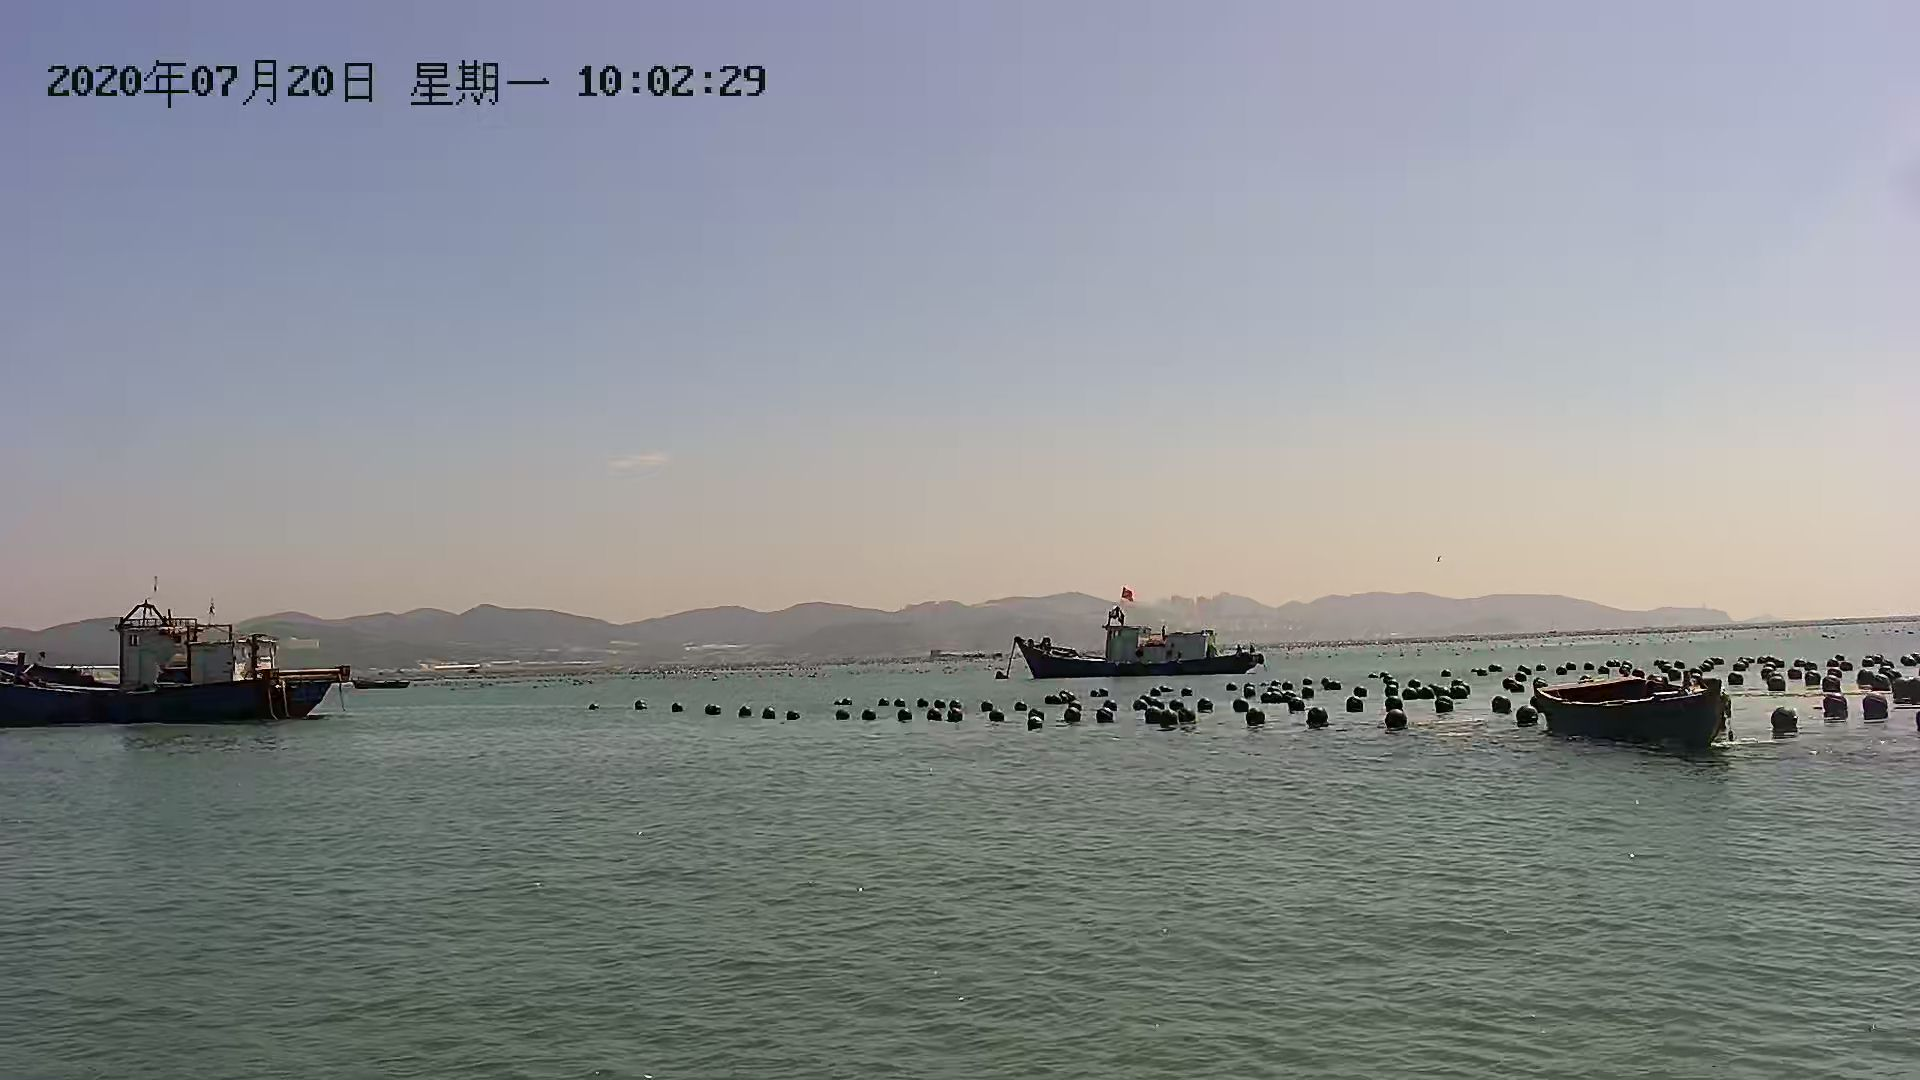ball: (1767, 702, 1804, 735), (1861, 691, 1891, 723), (1818, 694, 1851, 717), (1383, 709, 1414, 735), (1302, 705, 1331, 731), (1244, 708, 1269, 729)
boat: (1528, 669, 1727, 754)
ship: (1, 605, 345, 725), (1019, 603, 1265, 679)
